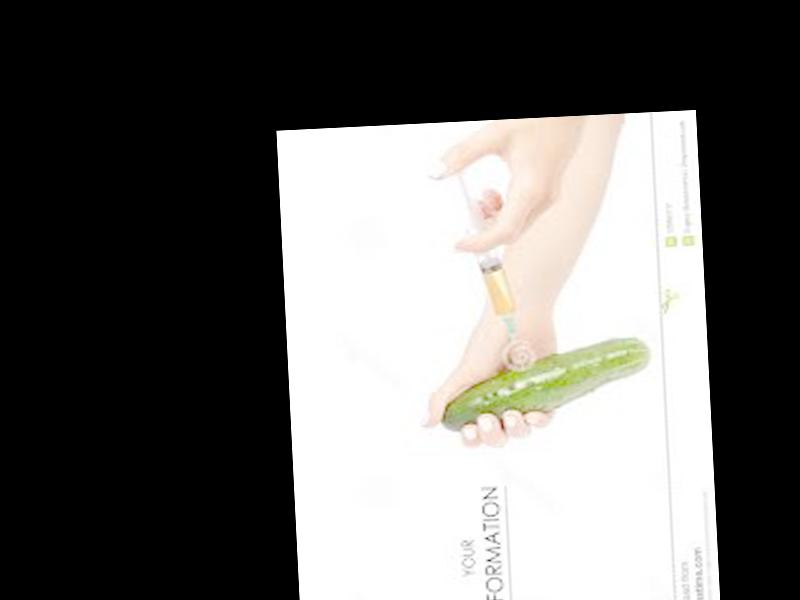Cucumber: (437, 336, 653, 431)
